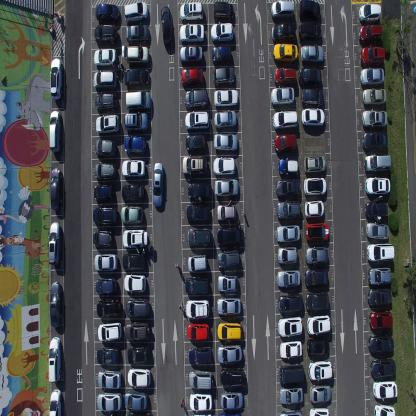car: (48, 336, 62, 383), (49, 280, 62, 328), (48, 221, 62, 265), (279, 362, 304, 386), (94, 112, 119, 136), (216, 224, 242, 247), (277, 315, 303, 338), (357, 22, 383, 45), (271, 42, 298, 64), (363, 153, 391, 174), (50, 57, 63, 102), (366, 242, 395, 262), (307, 314, 332, 337), (185, 110, 210, 133), (179, 0, 204, 23), (95, 1, 120, 24), (182, 155, 208, 177), (278, 292, 304, 314), (368, 335, 394, 357), (124, 320, 150, 342), (49, 110, 62, 154), (188, 368, 214, 390), (361, 107, 387, 129), (124, 66, 150, 88), (275, 199, 302, 220), (361, 131, 388, 152), (160, 5, 173, 48), (300, 43, 324, 66), (124, 0, 148, 23), (275, 223, 300, 245), (125, 296, 150, 318), (275, 178, 300, 200), (97, 320, 122, 342), (220, 365, 245, 387), (187, 226, 212, 248), (124, 111, 149, 133), (183, 88, 208, 110), (271, 21, 296, 43), (370, 358, 396, 379), (96, 390, 122, 411), (359, 45, 385, 66), (269, 86, 295, 107), (272, 109, 298, 130), (364, 176, 391, 196), (306, 336, 330, 358), (304, 268, 328, 290), (304, 222, 328, 244), (127, 344, 151, 366), (96, 297, 120, 319), (50, 167, 62, 211), (369, 310, 393, 332), (124, 389, 148, 411), (152, 161, 163, 209), (94, 138, 118, 160), (210, 21, 234, 43), (180, 66, 204, 88), (125, 44, 149, 66), (300, 107, 325, 128), (297, 66, 322, 87), (93, 24, 118, 45), (122, 228, 148, 248), (92, 206, 118, 226), (216, 343, 242, 363), (213, 88, 239, 108), (372, 380, 398, 400), (359, 66, 385, 86), (179, 24, 205, 44), (125, 90, 151, 110), (214, 132, 237, 154), (124, 134, 147, 156), (309, 382, 332, 404), (301, 86, 324, 108), (273, 66, 296, 88), (276, 268, 300, 289), (122, 250, 146, 271), (188, 180, 212, 201), (122, 158, 146, 179), (273, 134, 297, 155), (186, 202, 210, 223), (127, 367, 151, 388), (179, 44, 203, 65), (125, 23, 149, 44), (308, 361, 333, 381), (94, 252, 119, 272), (367, 266, 392, 286), (185, 299, 210, 319), (217, 320, 242, 340), (93, 48, 118, 68), (213, 156, 235, 178), (304, 246, 327, 267), (121, 204, 144, 225), (217, 248, 240, 269), (298, 20, 321, 41), (214, 178, 238, 198), (97, 368, 121, 388), (302, 178, 326, 198), (96, 346, 120, 366), (188, 391, 212, 411), (357, 2, 381, 22), (93, 70, 117, 90), (185, 276, 210, 295), (280, 339, 302, 360), (95, 160, 116, 182), (271, 0, 293, 21), (306, 292, 329, 312), (303, 155, 326, 175), (365, 201, 388, 221), (214, 109, 237, 129), (188, 345, 211, 365), (220, 390, 243, 410), (212, 66, 235, 86), (121, 183, 145, 202), (217, 296, 241, 315), (298, 0, 322, 19), (94, 93, 118, 112), (367, 288, 392, 306), (362, 88, 387, 106), (277, 246, 298, 267), (213, 0, 234, 21), (124, 272, 146, 292), (185, 134, 207, 154), (187, 252, 207, 274), (366, 222, 389, 241), (186, 322, 209, 341), (279, 386, 303, 404), (216, 201, 236, 222), (304, 199, 324, 220), (277, 157, 298, 177), (94, 183, 115, 203), (211, 44, 232, 64), (92, 228, 114, 247), (95, 277, 117, 295), (217, 274, 239, 292), (48, 387, 62, 415), (374, 402, 396, 415), (277, 407, 305, 415), (308, 405, 330, 415), (218, 411, 242, 415), (188, 411, 212, 415)
